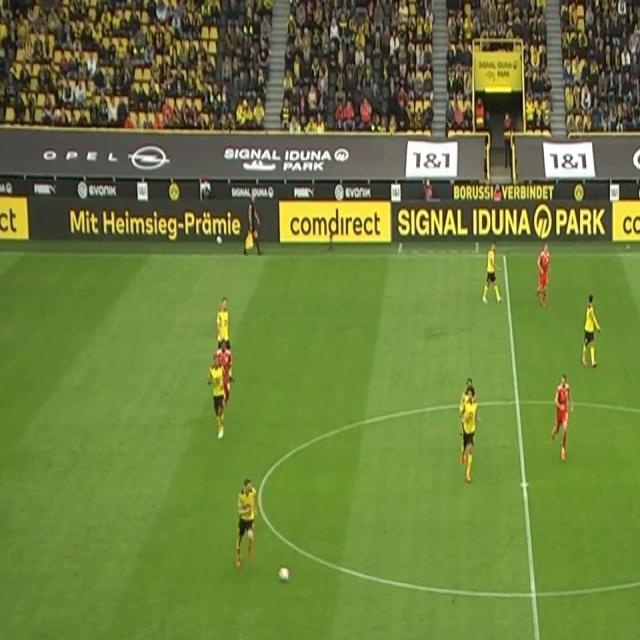ball: (277, 565, 290, 585)
